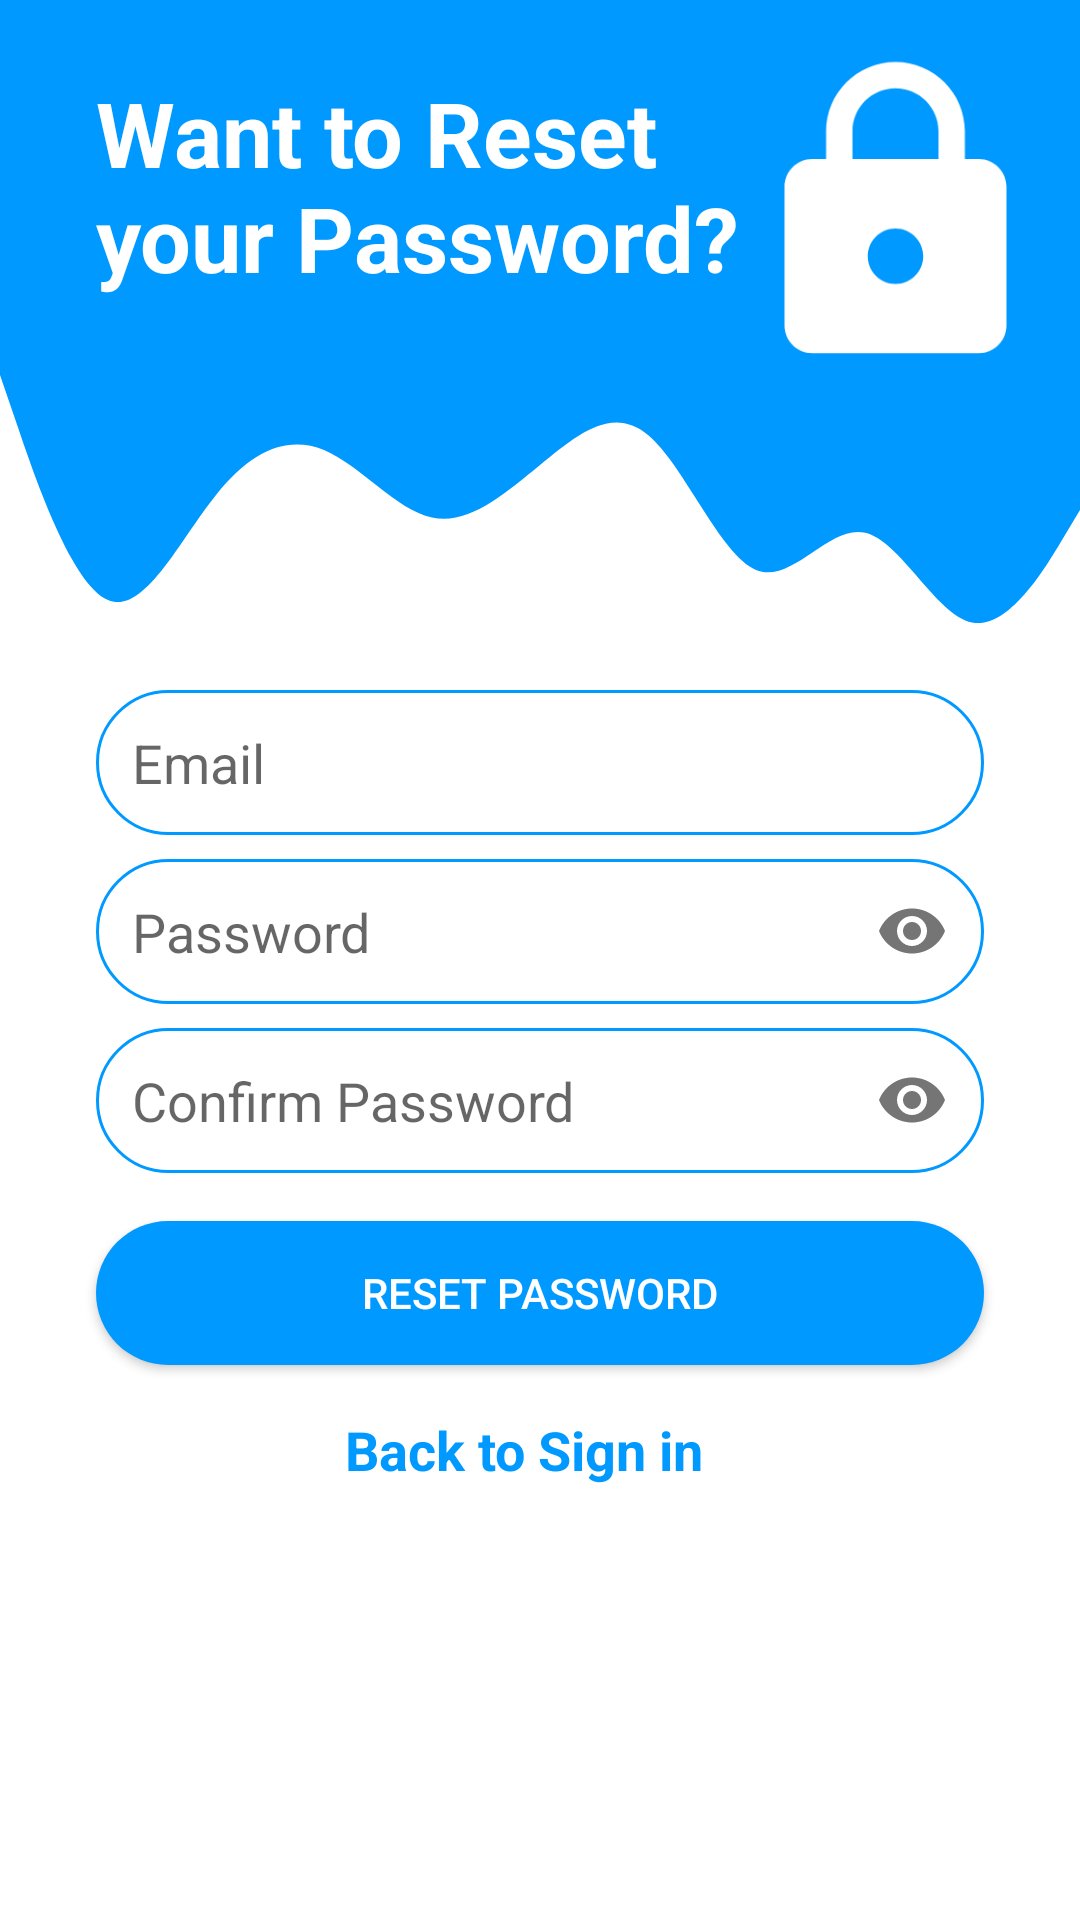

Named icons in this screenshot (1080x1920) and their bounding boxes, (x1, y1, x2, y2):
lock: (784, 61, 1007, 354)
